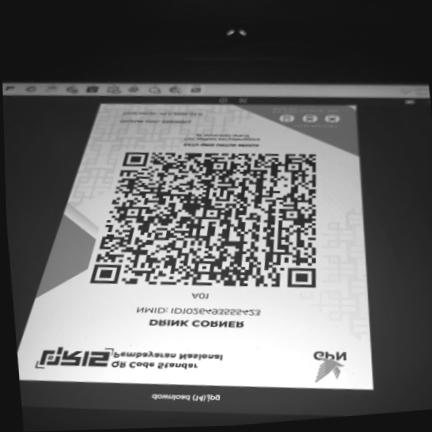Cara Pakai QRIS: (264, 106, 356, 131)
Cek Aplikasi Penyelenggara: (181, 133, 265, 142)
Dicetak Oleh: (116, 118, 196, 127)
Logo dan deskripsi QRIS: (30, 342, 241, 380), (305, 345, 356, 387)
Nama Merchant: (142, 318, 251, 331)
National Merchant ID: (130, 305, 265, 319)
QR Code: (83, 148, 323, 291)
Slogan: (181, 142, 262, 149)
Terminal ID: (185, 292, 214, 301)
Versi Cetak: (119, 110, 207, 118)
